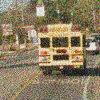buses: (36, 23, 88, 74)
